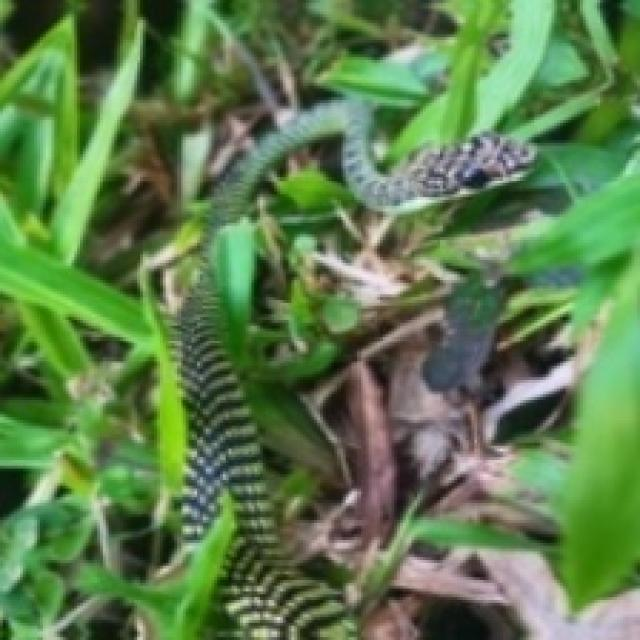paradise tree snake: (180, 103, 431, 637), (354, 363, 394, 543)
